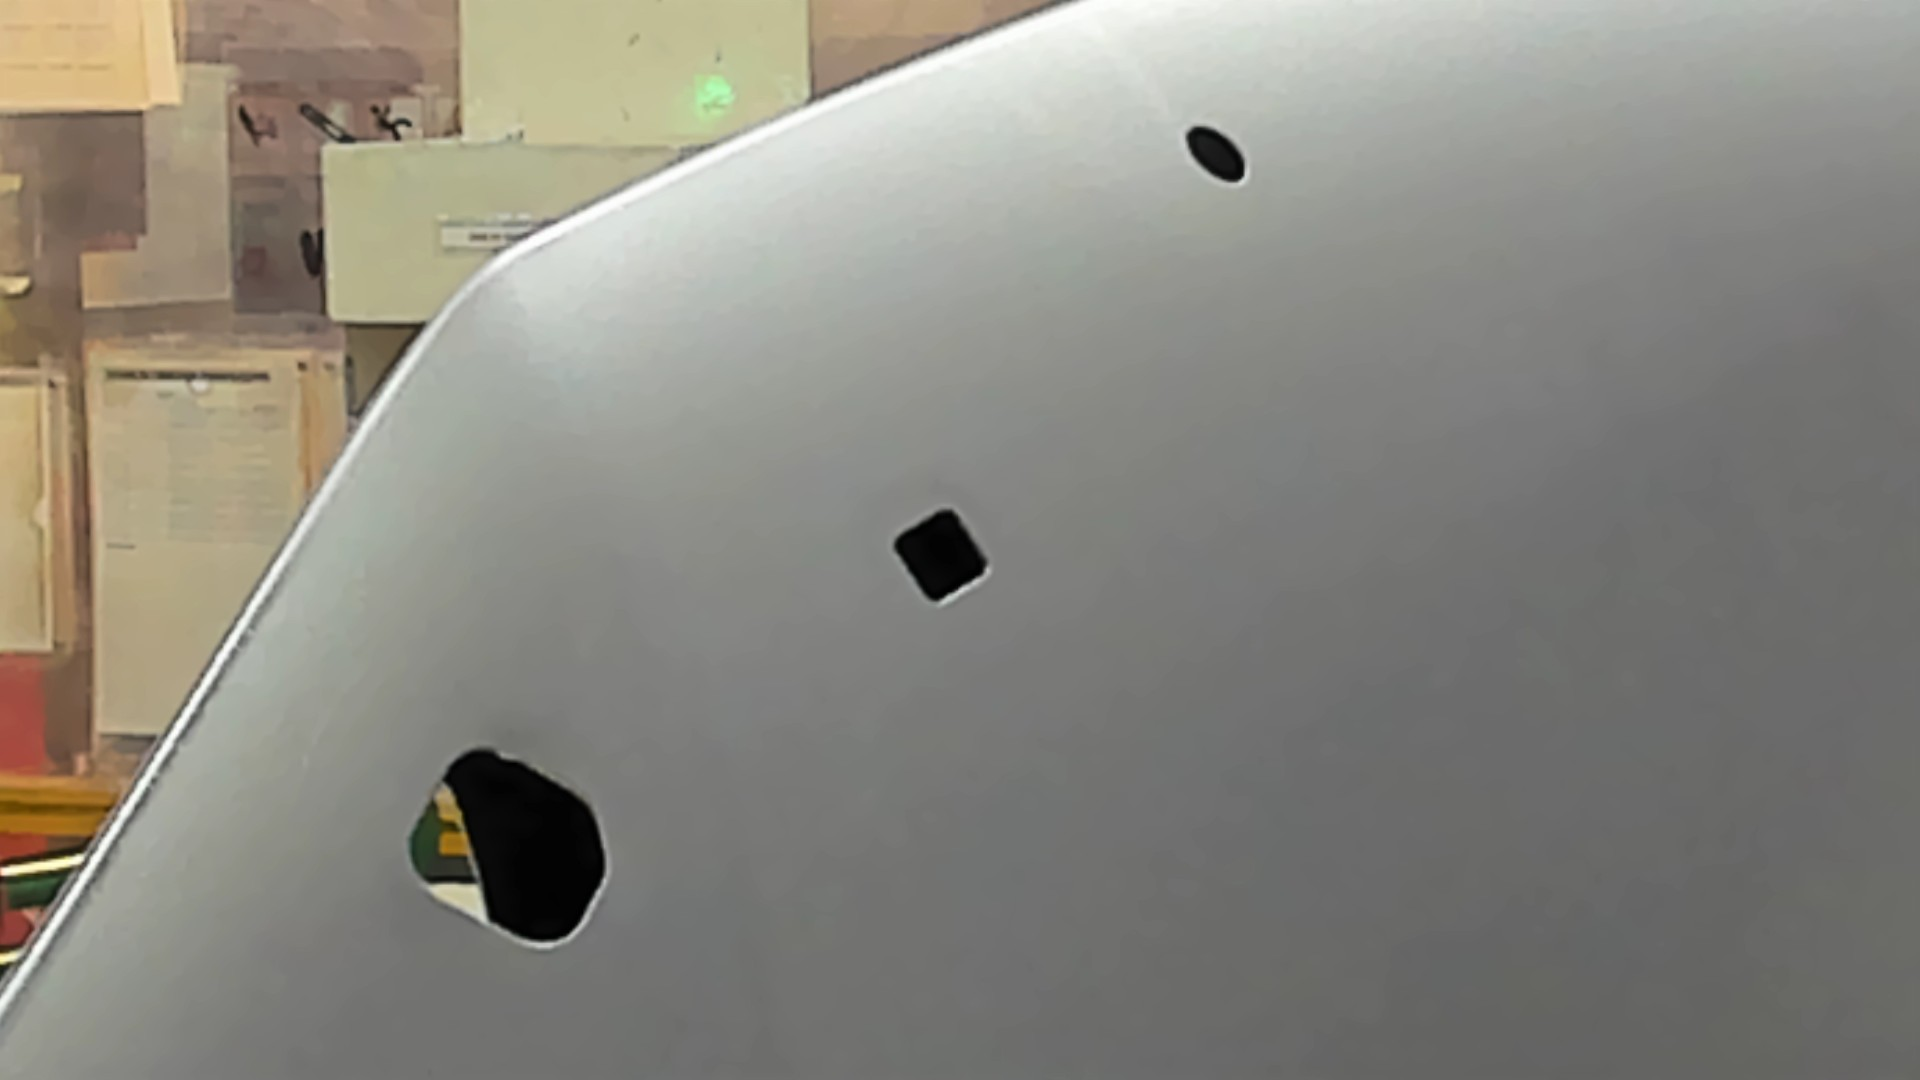chico: (1168, 117, 1269, 194)
grande: (389, 728, 626, 960)
mediano: (873, 501, 1011, 611)
